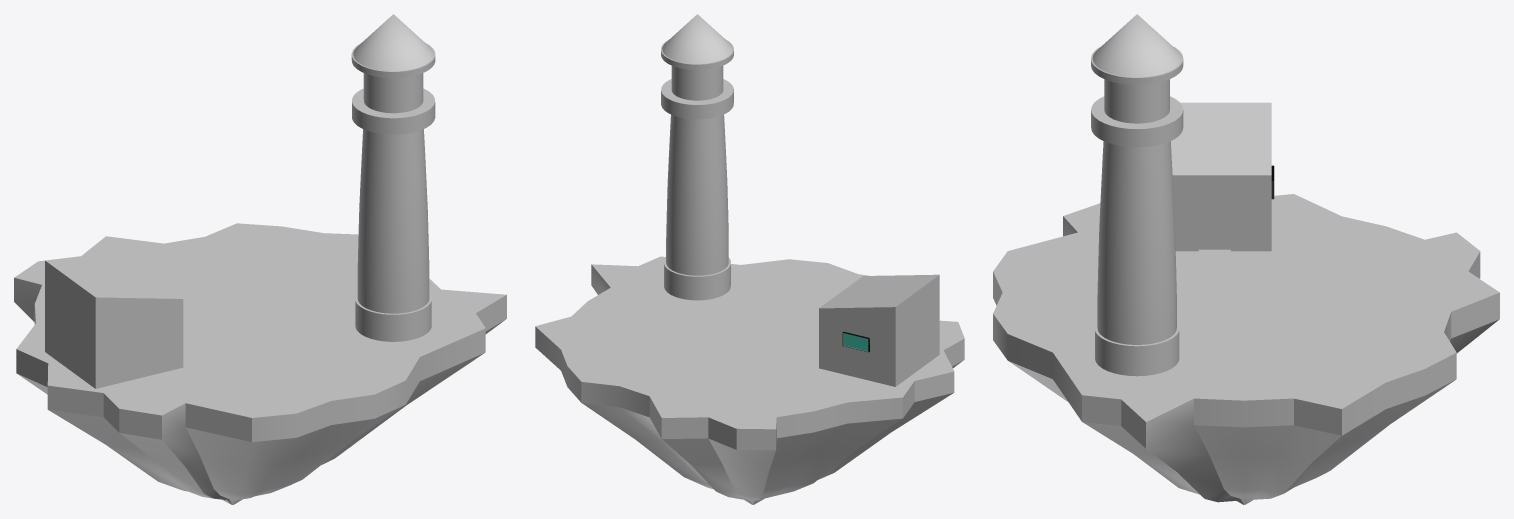
The model's file is StartingIsland.fbx.
The picture shows the model from 3 angles, left to right: view 1: azimuth 30°, elevation 25°; view 2: azimuth 150°, elevation 25°; view 3: azimuth 270°, elevation 25°; orthographic projection. The views are drawn at different scales.
Visible parts, largest first — view 1: Circle, Cylinder, Cube; view 2: Circle, Cylinder, Cube; view 3: Circle, Cylinder, Cube.
Boxes of the visible parts, box(x1,y1,x2,y2) form: Circle: box(14, 223, 506, 504); Cylinder: box(351, 14, 435, 341); Cube: box(45, 260, 183, 388); Circle: box(535, 256, 964, 504); Cylinder: box(661, 14, 733, 300); Cube: box(819, 274, 939, 386); Circle: box(993, 194, 1499, 504); Cylinder: box(1091, 14, 1183, 376); Cube: box(1170, 102, 1271, 251).
Size of the model in its own units: 4232 by 4609 by 3845.
